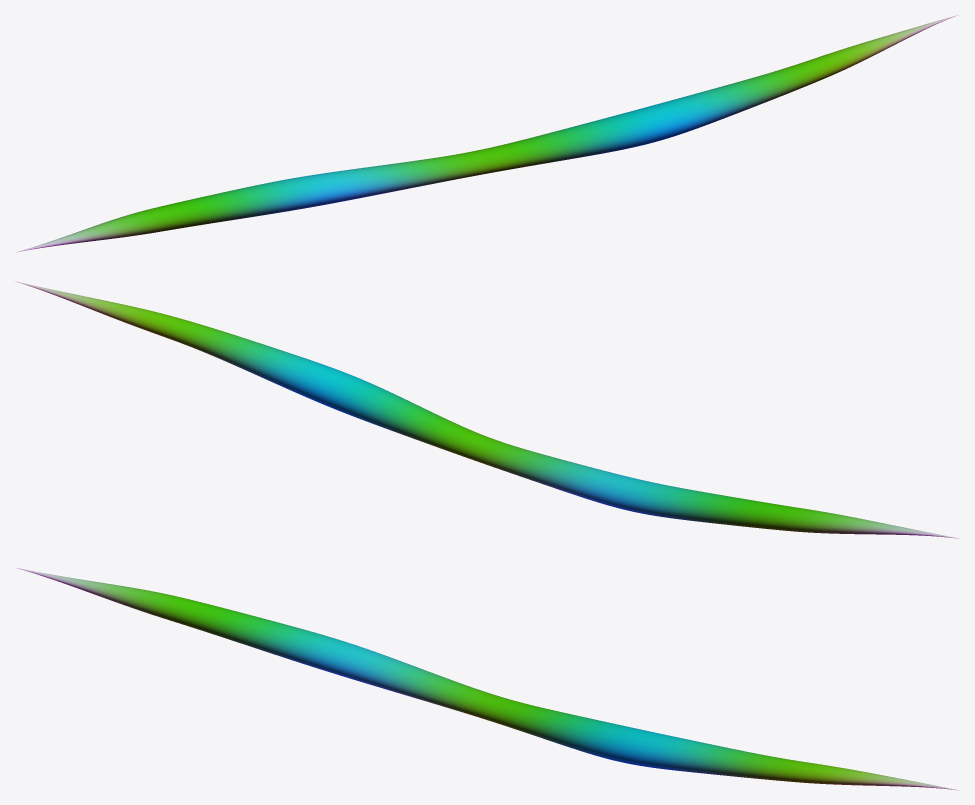
File: env_sky_cloudband_c.fbx
3 renders of one model, top to bottom at view 1: azimuth 30°, elevation 25°; view 2: azimuth 150°, elevation 25°; view 3: azimuth 330°, elevation 25°, orthographic. The views are drawn at different scales.
Parts seen in each view (by area): view 1: env_sky_cloudband_c; view 2: env_sky_cloudband_c; view 3: env_sky_cloudband_c.
Boxes of the visible parts, x1,y1,x2,y2 form: env_sky_cloudband_c: [15, 15, 958, 252]; env_sky_cloudband_c: [15, 281, 958, 538]; env_sky_cloudband_c: [16, 567, 959, 790].
Bounding box in the file's own units: 40 × 2.11 × 3.88.
